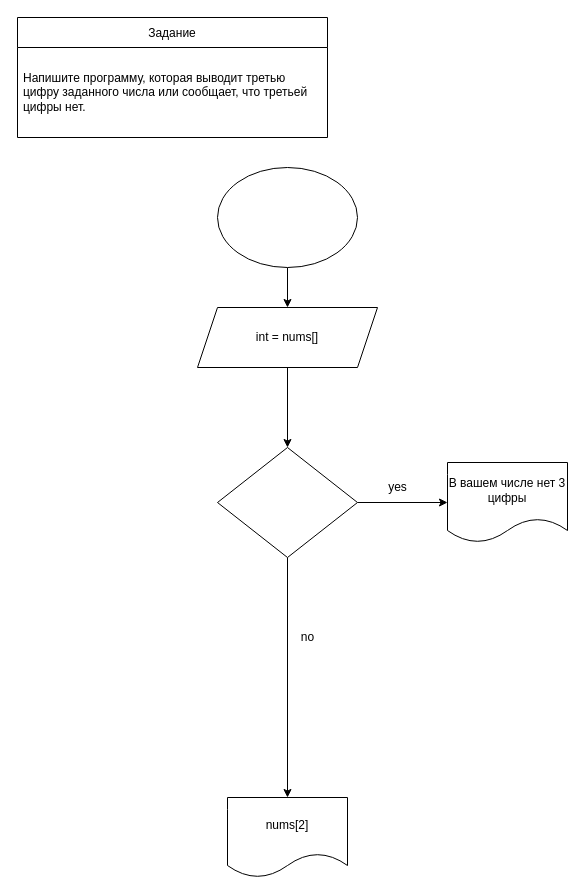
The diagram is 585 pixels wide and 895 high, and some of its shapes have lost their labels. The shapes that lost their labels are listed below. From the top down, each one's box as (x1, y1, x2, y2) in pixels, then its label:
(216, 166, 358, 268): Start "Программа, которая показывает 3 цифру введенного вами 3-х значного числа"
(216, 446, 358, 558): isEmpty(nums[2])
